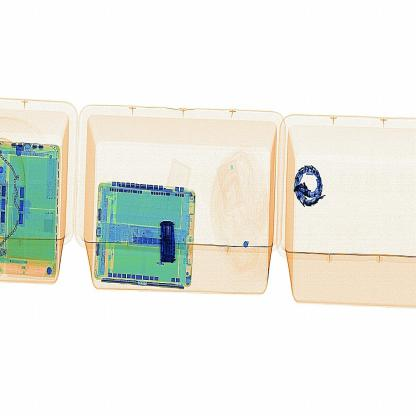scissors: (146, 200, 187, 269)
